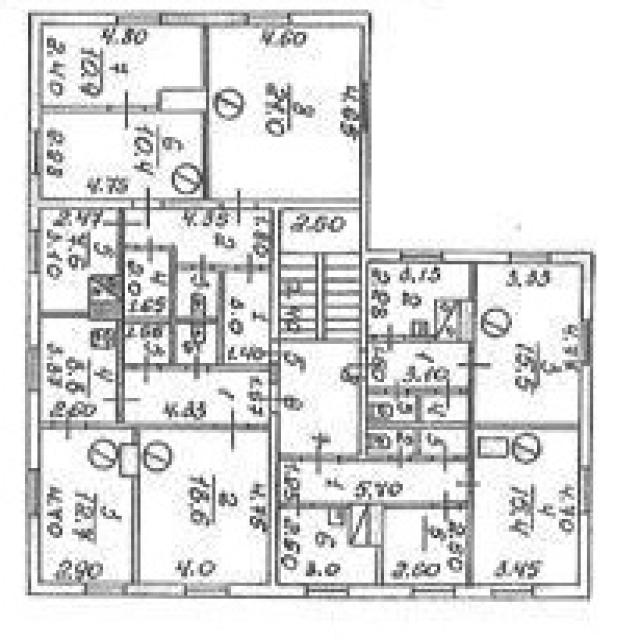Bathrooms: (177, 325, 214, 363), (179, 273, 214, 313), (371, 397, 415, 419), (368, 430, 412, 452)
Corridors: (281, 347, 357, 450), (126, 210, 268, 263), (126, 373, 268, 420), (282, 464, 464, 499), (371, 344, 467, 385), (226, 274, 268, 363), (125, 251, 168, 313), (126, 325, 168, 363), (421, 430, 466, 453), (423, 399, 466, 420)
Doors: (105, 89, 146, 132), (212, 408, 250, 454), (296, 438, 339, 477), (225, 249, 269, 286), (248, 383, 295, 417), (131, 185, 165, 231), (454, 345, 494, 383), (434, 367, 468, 411), (222, 186, 258, 227), (100, 383, 143, 417), (102, 208, 141, 245), (124, 235, 169, 265), (371, 321, 408, 354), (49, 411, 87, 443), (429, 488, 460, 525), (179, 351, 216, 381), (178, 253, 219, 280), (130, 352, 161, 386), (431, 444, 462, 476), (453, 469, 484, 496), (383, 378, 409, 407), (284, 491, 311, 518), (386, 442, 412, 470)
LBwalls: (28, 9, 116, 128), (26, 173, 132, 230), (534, 514, 594, 602), (25, 518, 86, 598), (554, 248, 596, 320), (268, 414, 281, 581), (434, 297, 478, 344), (270, 209, 280, 383), (290, 8, 373, 28), (162, 9, 246, 28), (578, 366, 594, 465), (88, 274, 117, 322), (231, 581, 306, 599), (24, 391, 41, 468), (259, 196, 359, 209), (124, 579, 185, 599), (25, 273, 41, 348), (444, 247, 509, 265), (350, 583, 411, 602), (457, 582, 490, 602), (165, 198, 222, 209), (367, 249, 401, 264)
Offices: (211, 28, 359, 196), (142, 432, 266, 581), (474, 430, 578, 582), (478, 264, 577, 418), (41, 429, 131, 579), (44, 115, 201, 197), (44, 26, 201, 103), (42, 320, 116, 419), (42, 211, 117, 308), (280, 510, 375, 583), (370, 265, 468, 333), (384, 509, 465, 583)
Stairs: (281, 210, 358, 345)
Walls: (115, 240, 268, 383), (87, 416, 213, 581), (368, 383, 579, 470), (145, 28, 213, 199), (309, 499, 429, 583), (359, 28, 369, 453), (458, 495, 476, 584), (44, 105, 106, 114), (42, 308, 88, 319), (338, 451, 386, 461), (468, 264, 478, 297), (406, 333, 434, 344), (369, 385, 385, 396), (280, 452, 296, 462), (249, 423, 268, 431), (41, 419, 50, 430), (280, 500, 286, 509)
Windows: (490, 582, 534, 602), (185, 581, 231, 600), (410, 582, 456, 601), (306, 581, 349, 600), (25, 468, 41, 518), (399, 247, 443, 265), (116, 9, 162, 26), (247, 9, 290, 27), (578, 465, 593, 515), (86, 579, 124, 598), (28, 127, 43, 174), (579, 319, 593, 367), (509, 249, 552, 264), (26, 230, 41, 272), (25, 348, 40, 390)
